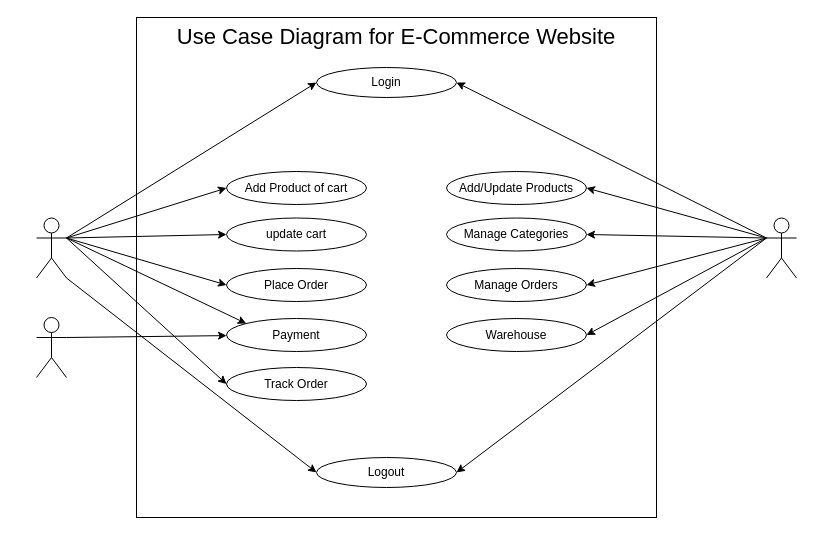
Some shapes in this 814 by 535 pixel diagram are drawn without their labels. The shapes that lost their labels are listed below. From the top down, each one's box as (x1, y1, x2, y2) in pixels, then its label:
(36, 217, 66, 278): User
(766, 217, 796, 278): Seller
(36, 316, 66, 378): Khalti/Esewa
